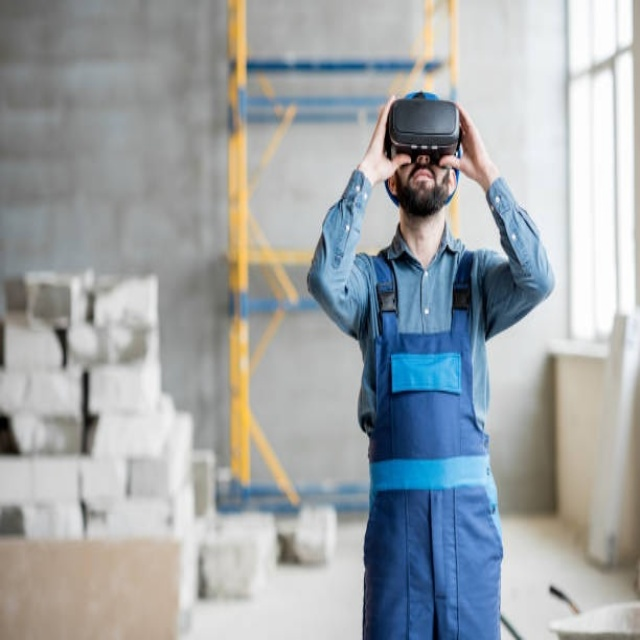Gafas: (396, 143, 454, 168)
Sin_guantes: (358, 93, 402, 184), (451, 97, 495, 185)
Sin_mascara: (407, 171, 436, 204)
